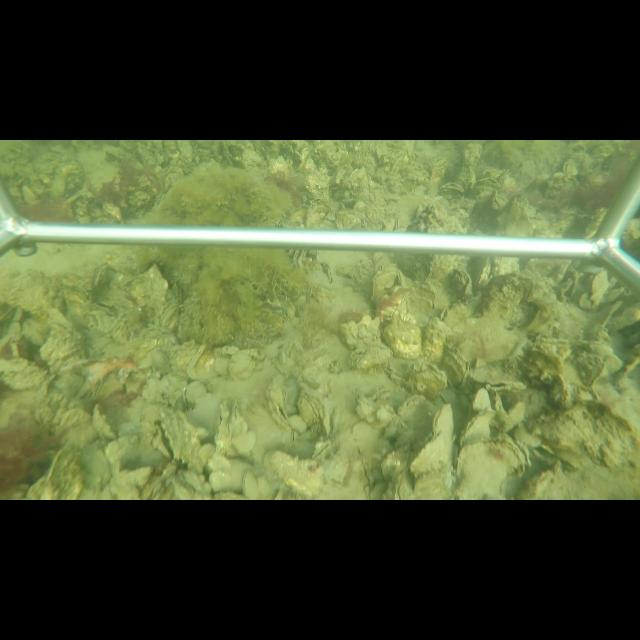Oyster-Closed: (453, 437, 526, 500), (408, 402, 458, 477), (130, 264, 169, 314), (405, 358, 450, 397), (396, 392, 437, 431), (440, 341, 471, 391), (460, 408, 497, 443), (603, 399, 639, 432), (587, 268, 614, 309), (490, 389, 513, 432), (213, 398, 229, 452), (91, 403, 115, 439), (180, 380, 210, 407), (299, 396, 321, 430), (395, 269, 411, 314), (474, 255, 492, 292), (240, 469, 258, 498), (307, 441, 333, 461), (231, 398, 244, 434)
Oyster-Open: (151, 410, 192, 465), (470, 364, 532, 391), (531, 443, 558, 462)
